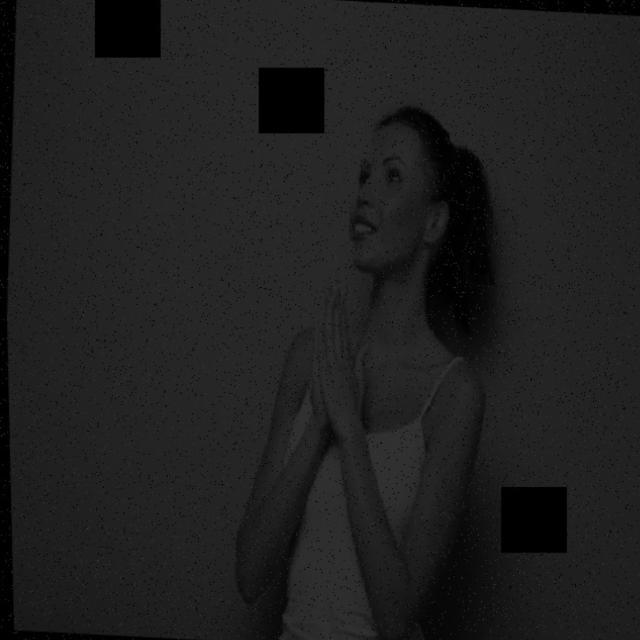happy: (315, 99, 462, 295)
